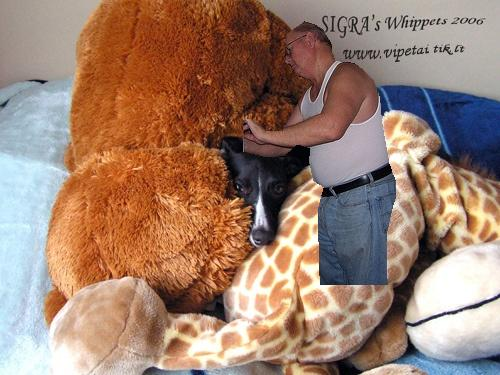tampered: (244, 22, 396, 285)
